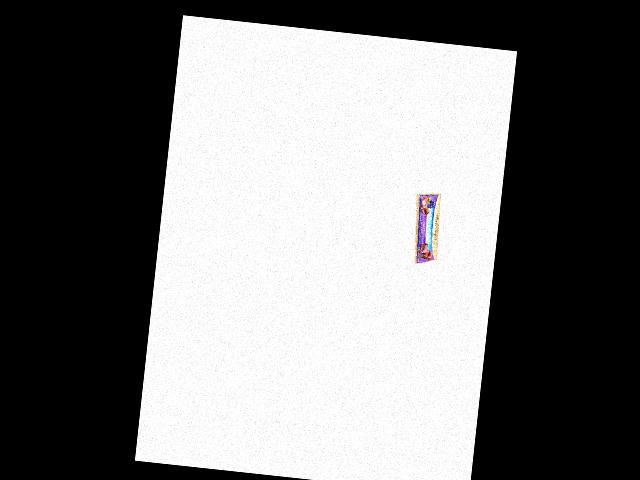chocolate: (408, 191, 441, 268)
